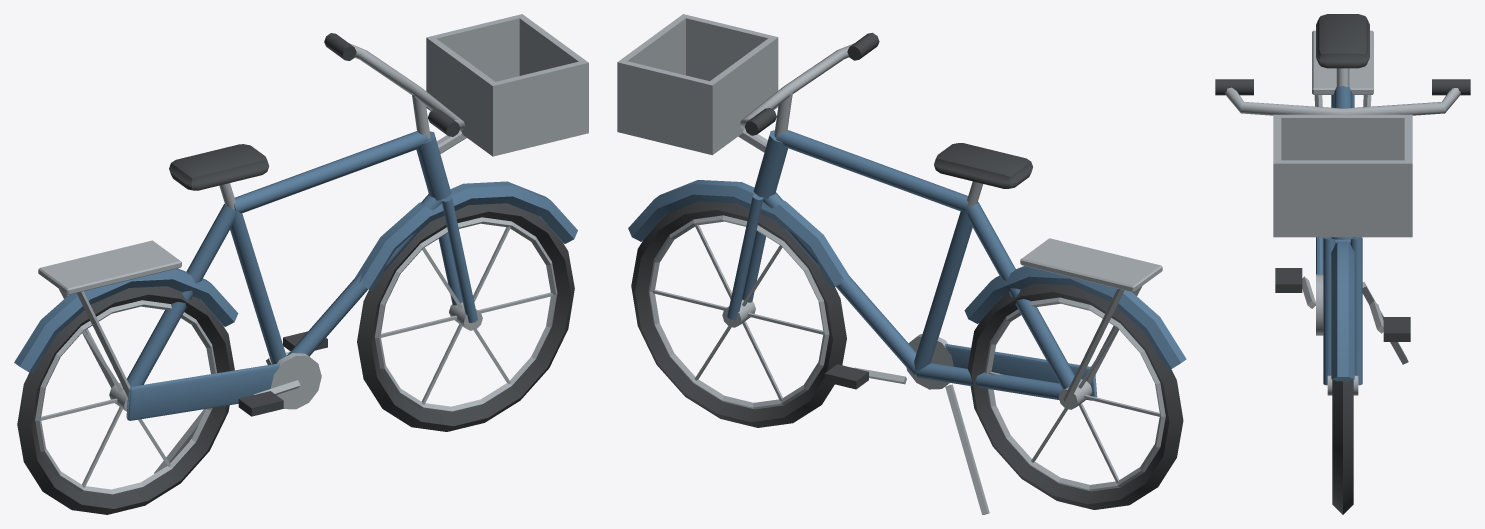
File: bicycle.glb
3 renders of one model, left to right at view 1: azimuth 30°, elevation 25°; view 2: azimuth 150°, elevation 25°; view 3: azimuth 270°, elevation 25°, orthographic. The views are drawn at different scales.
Parts seen in each view (by area): view 1: bicycle; view 2: bicycle; view 3: bicycle.
Part boxes in pixels (x1,y1,x2,y2): bicycle: (14,14,588,514); bicycle: (617,14,1186,514); bicycle: (1215,14,1470,514).
Size of the model in its own units: 1.74 by 1.11 by 0.66.
